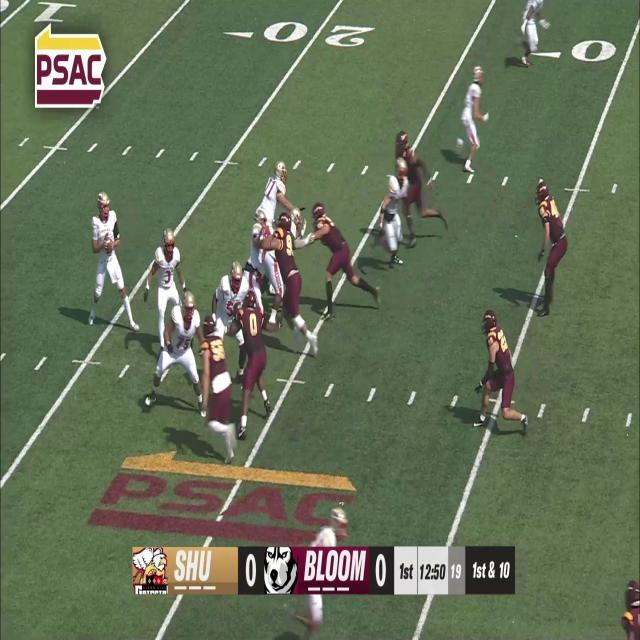football: (103, 237, 114, 256)
